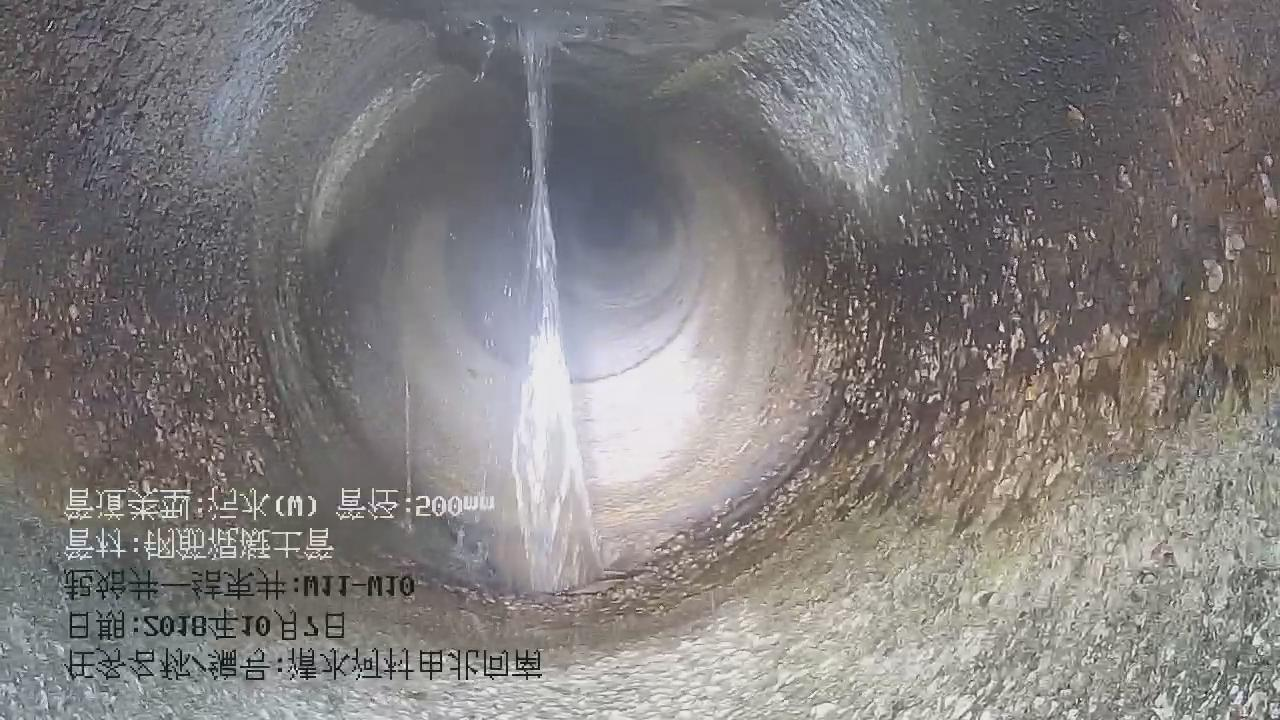SL: (357, 8, 667, 617)
